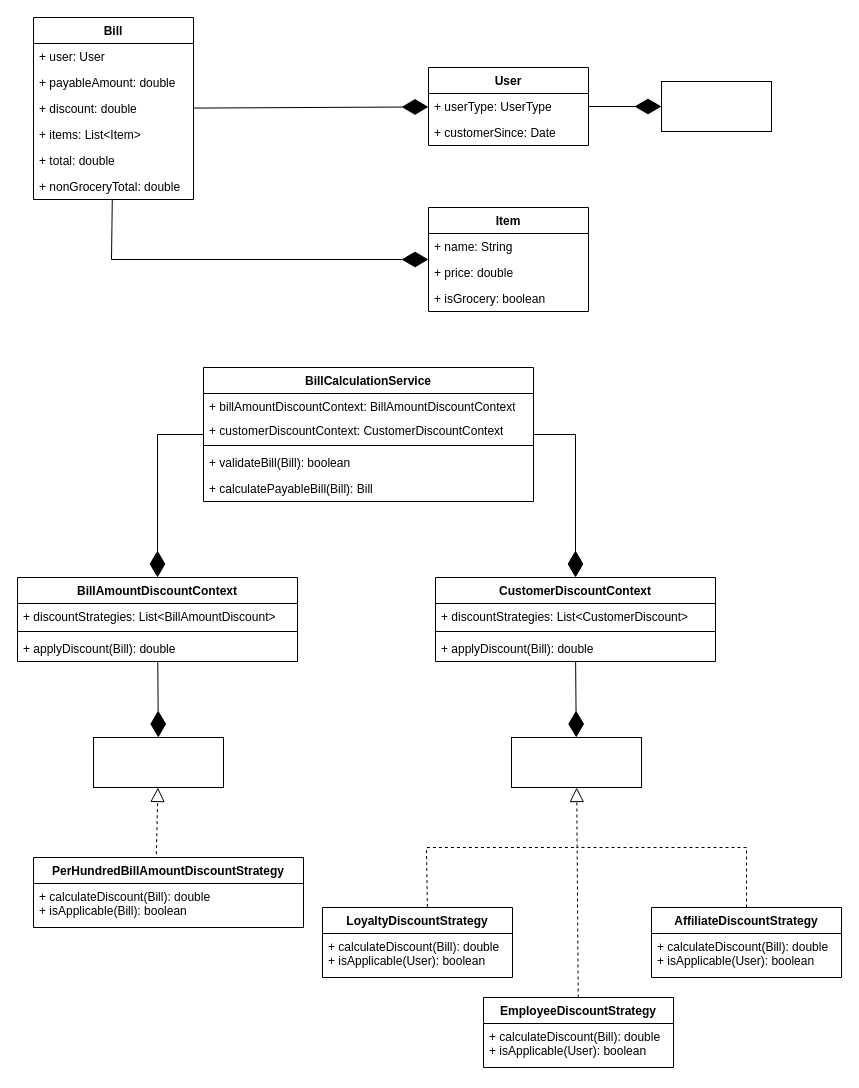
The diagram is 859 pixels wide and 1088 high, and some of its shapes have lost their labels. The shapes that lost their labels are listed below. From the top down, each one's centre as x and y in pixels, then its label:
(x=716, y=106): «Enum» UserType
(x=158, y=762): «interface» BillAmount Discount
(x=576, y=762): «interface» CustomerDiscount
